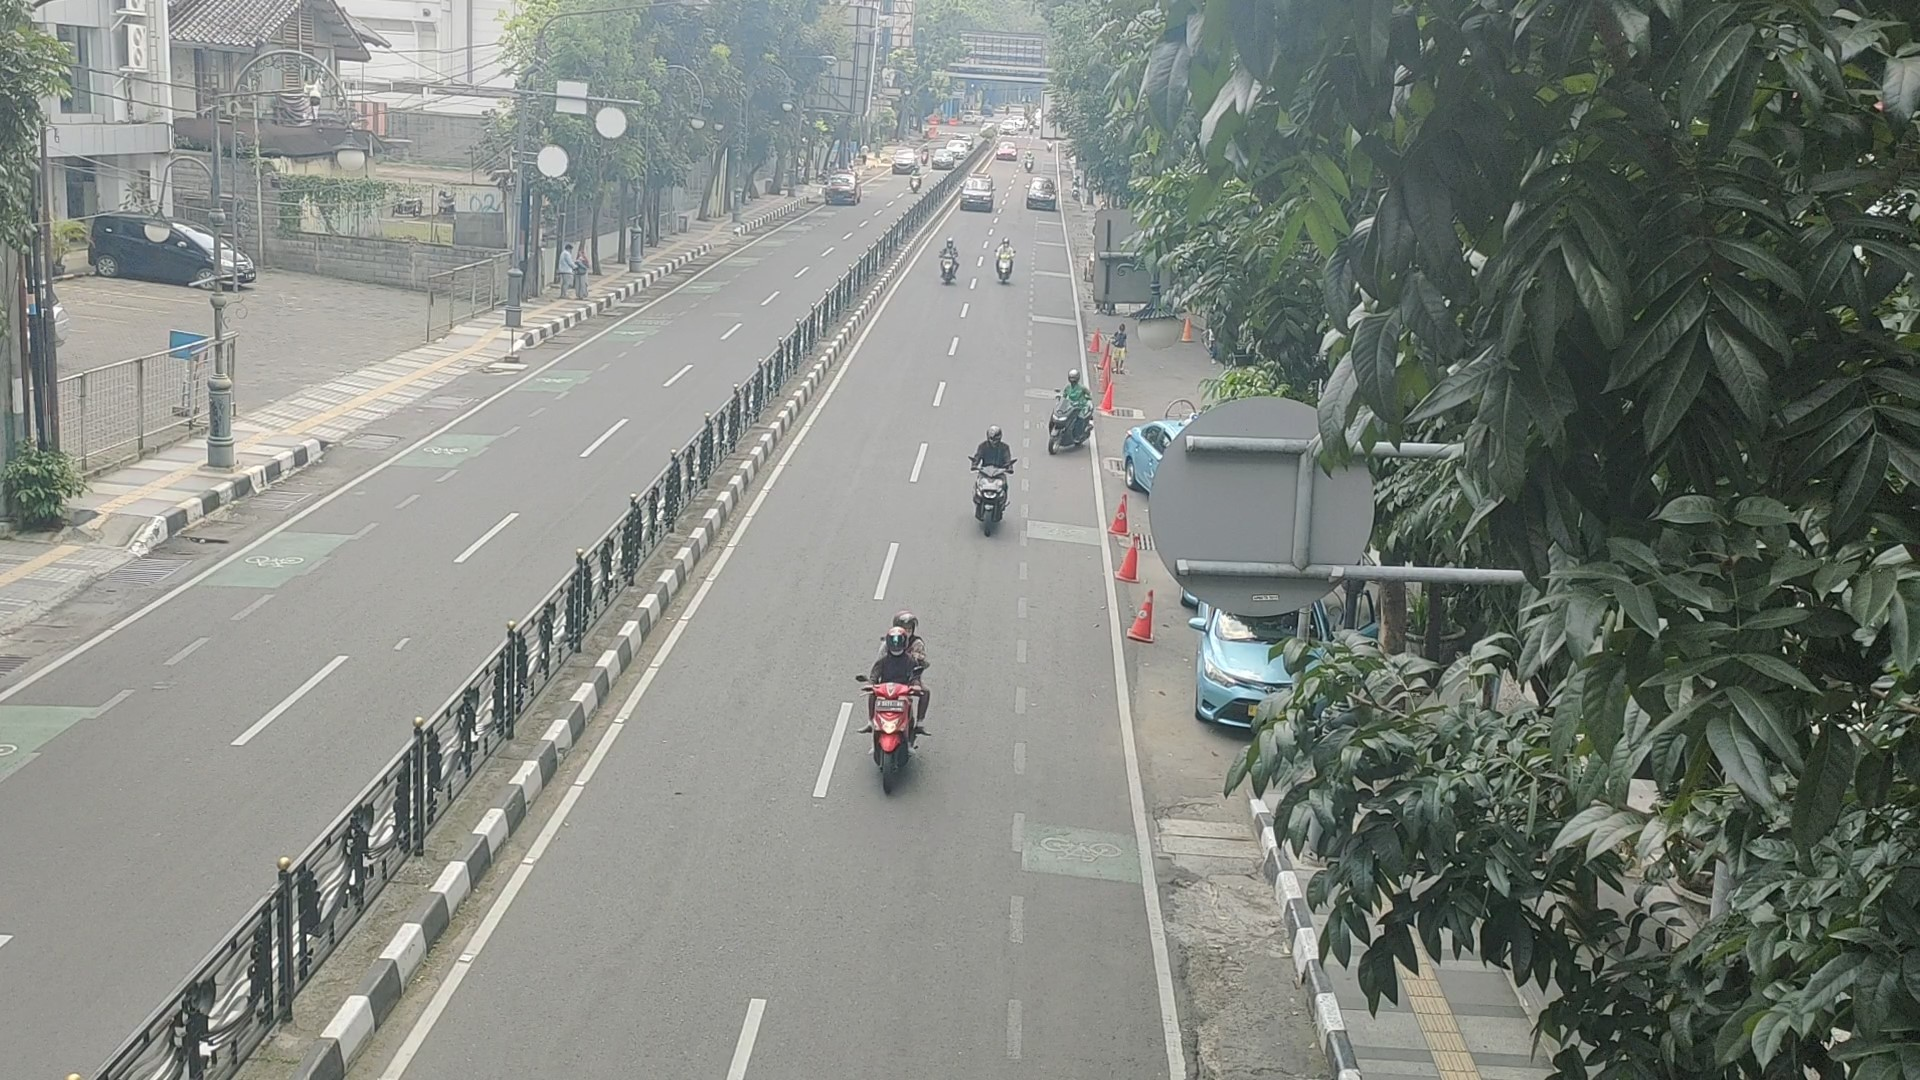mobil: (956, 169, 998, 218), (1023, 171, 1059, 219)
motor: (858, 607, 939, 803), (959, 419, 1014, 549), (1044, 365, 1096, 463), (988, 235, 1025, 287), (934, 237, 964, 286)
